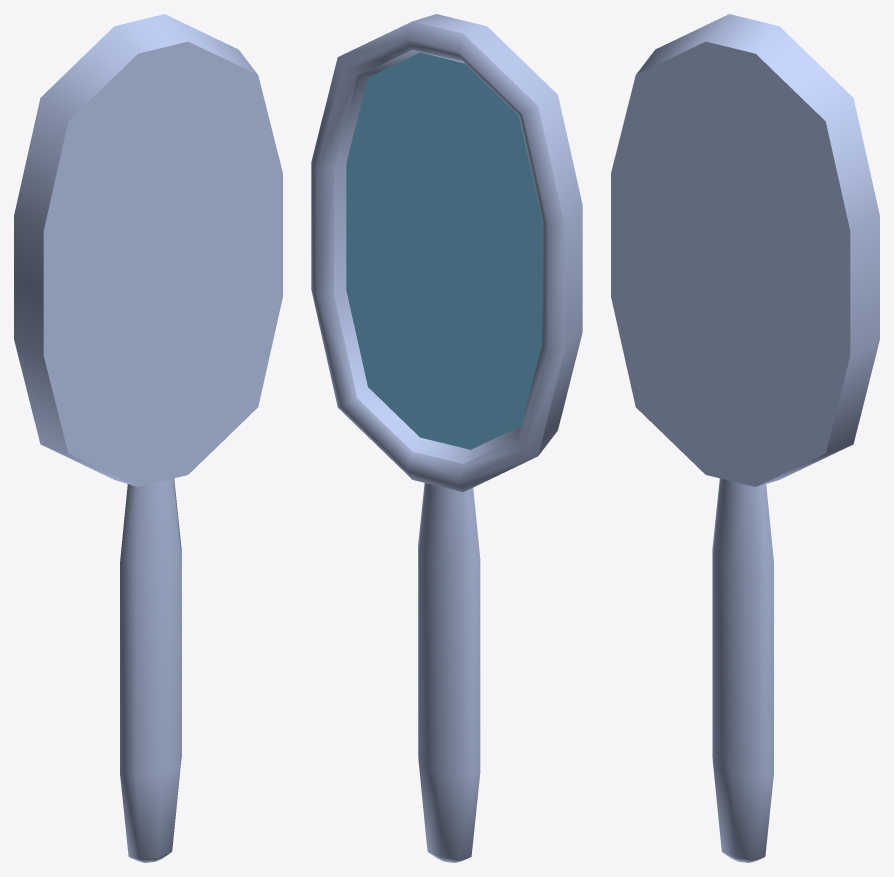
Rendered from magnifying_lamp.glb.
3 views of the same model, side by side, from view 1: azimuth 30°, elevation 25°; view 2: azimuth 150°, elevation 25°; view 3: azimuth 330°, elevation 25° (orthographic).
Visible parts, largest first — view 1: tools_mirror.001; view 2: tools_mirror.001; view 3: tools_mirror.001.
Boxes of the visible parts, left/top/right/bottom form: tools_mirror.001: left=14, top=14, right=282, bottom=862; tools_mirror.001: left=311, top=14, right=582, bottom=862; tools_mirror.001: left=611, top=14, right=879, bottom=862.
Bounding box in the file's own units: 13.01 × 41.17 × 2.59.
1 material, 1 textured.
